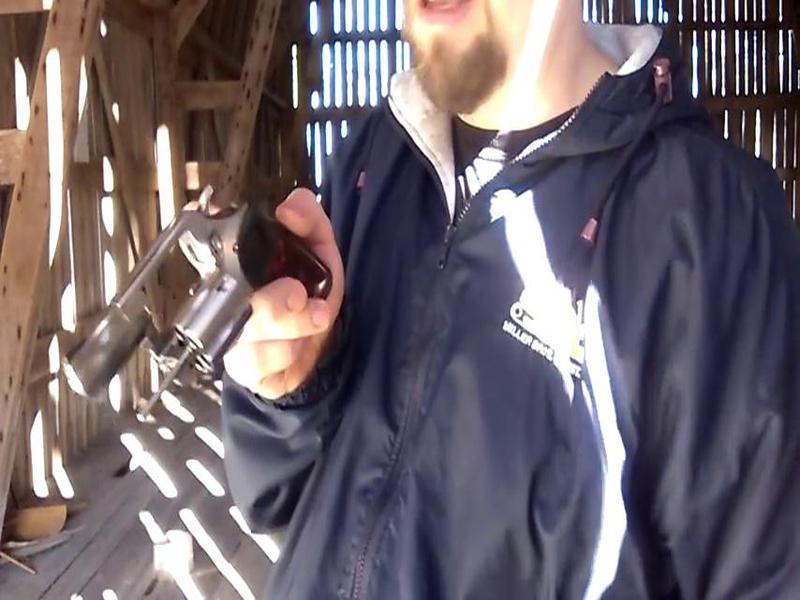Revolver: (43, 173, 342, 452)
